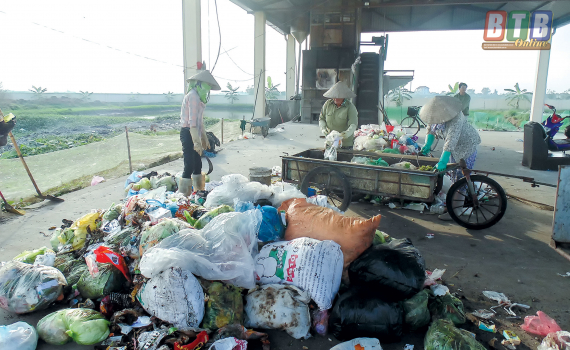plastic bag: (1, 170, 570, 350), (354, 119, 422, 169)
